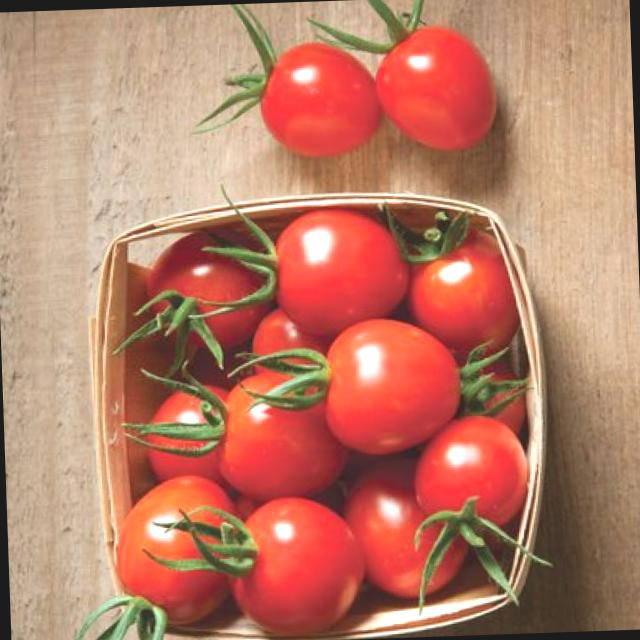tomato: (222, 195, 415, 332), (394, 414, 540, 581), (302, 312, 457, 460), (364, 8, 501, 170), (89, 481, 228, 640), (209, 494, 364, 630), (239, 25, 378, 173), (170, 378, 330, 498)
